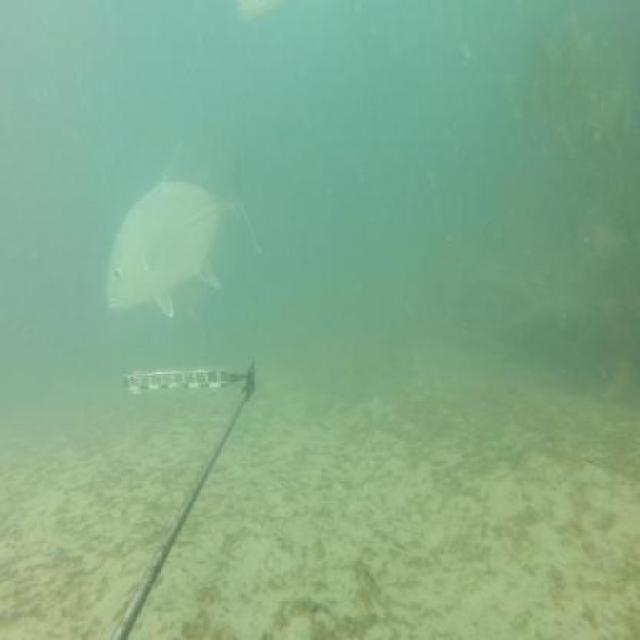Caranx: (104, 128, 264, 326)
